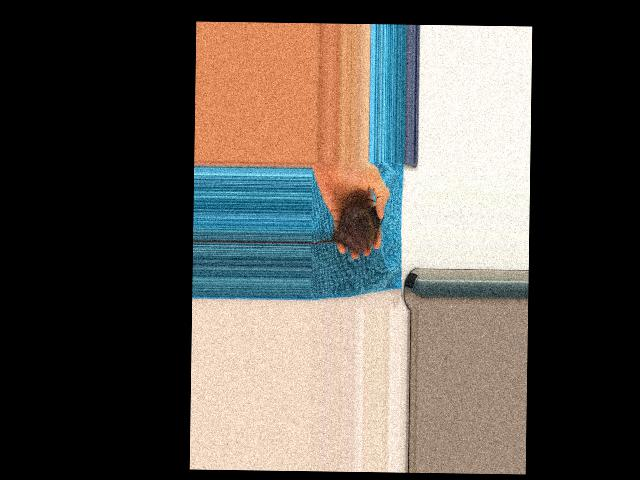beet: (310, 195, 383, 252)
